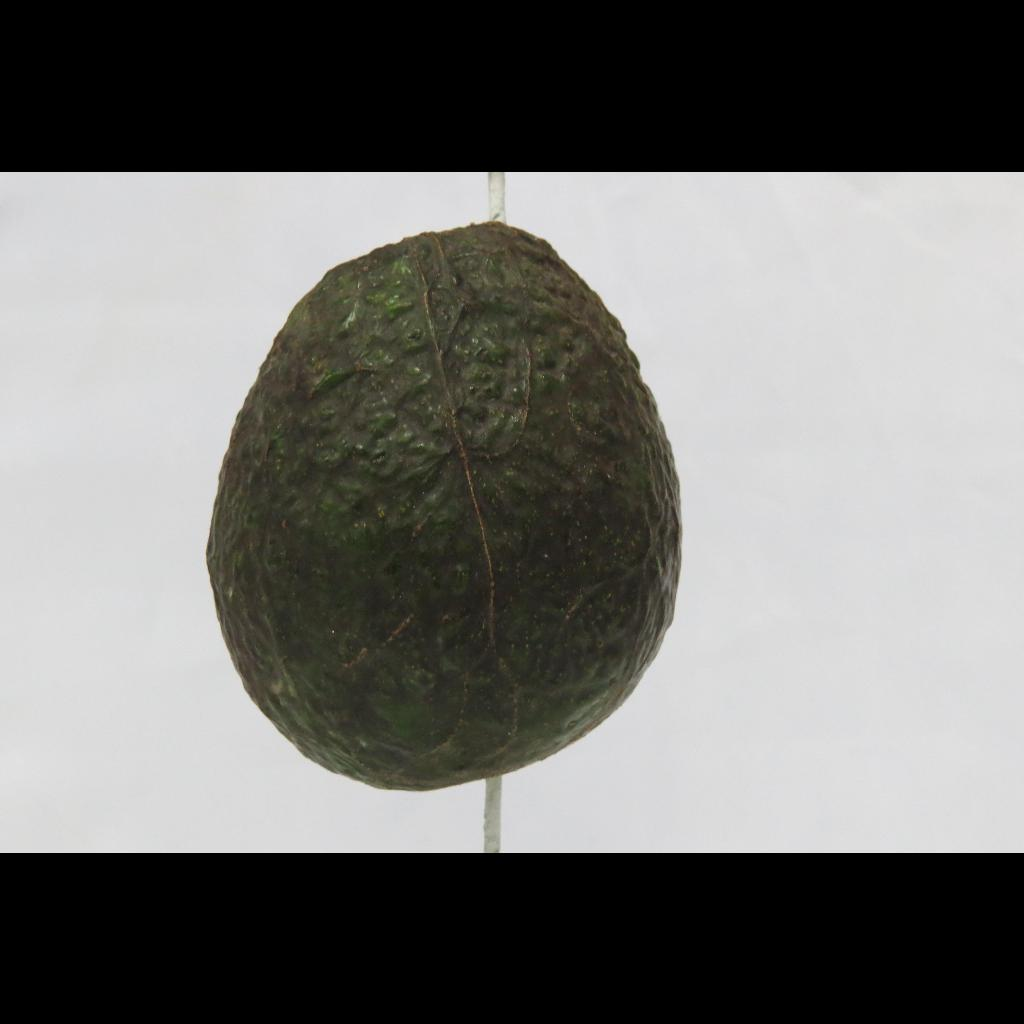Healthy: (170, 200, 714, 814)
